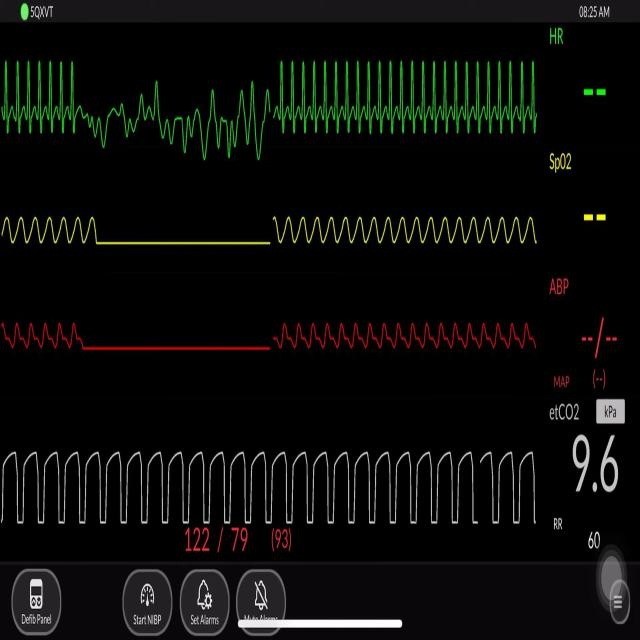danger: (276, 40, 546, 151), (7, 47, 80, 151)
